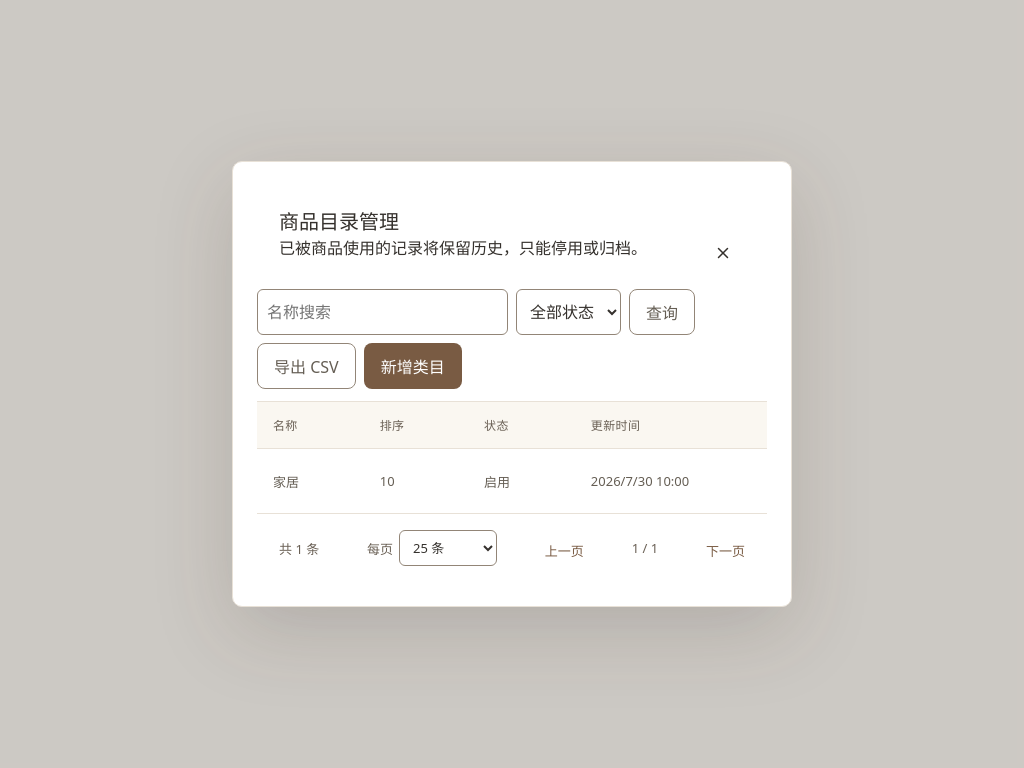
Test: ProductMasterDataManager › keeps category export usable after the bounded result is rejected
Expected: the text "家居" is shown, [257,448,364,513]
Click the button "导出 CSV".
click(306, 366)  # box [257,343,356,389]
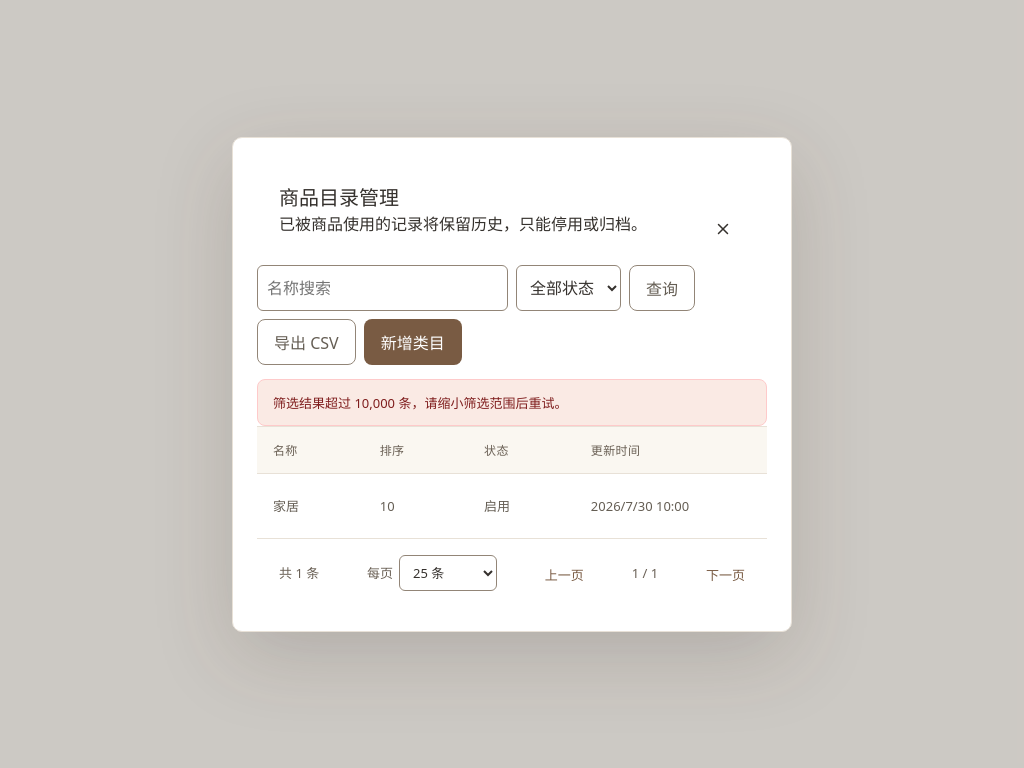
Expected: the message reads "筛选结果超过 10,000 条，请缩小筛选范围后重试。", [273,394,567,412]
Click the button "导出 CSV".
click(306, 342)  # box [257,318,356,364]
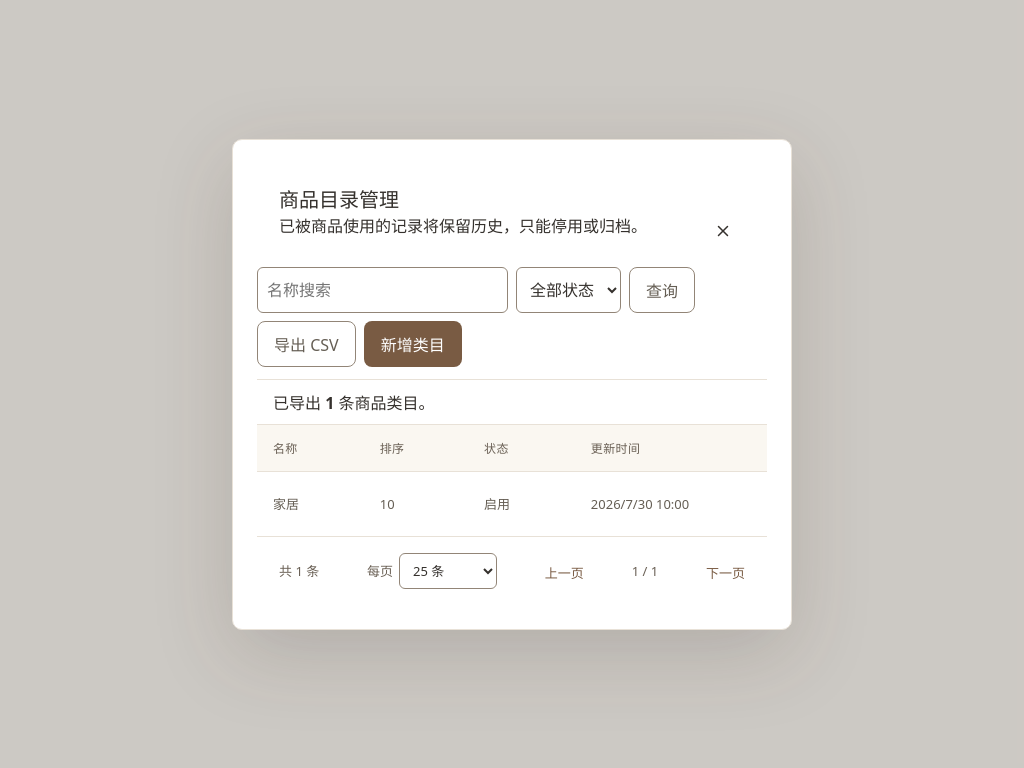
Expected: the message reads "已导出 1 条商品类目。", [273,392,434,414]
